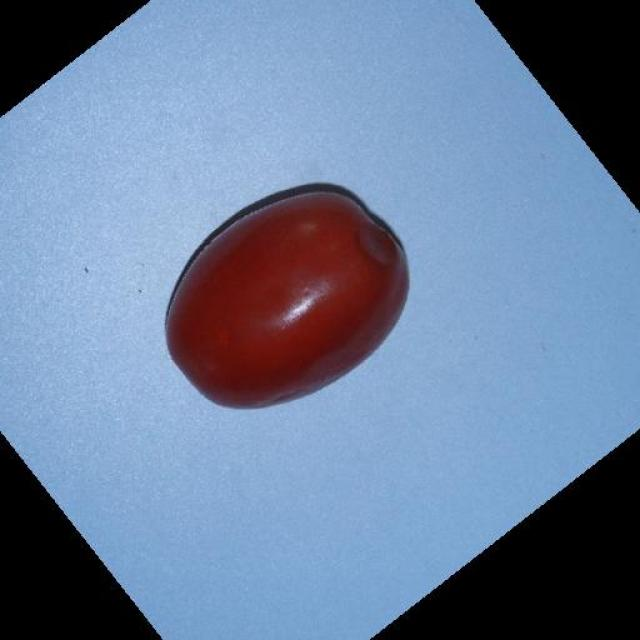Stale_tomato: (153, 166, 397, 412)
